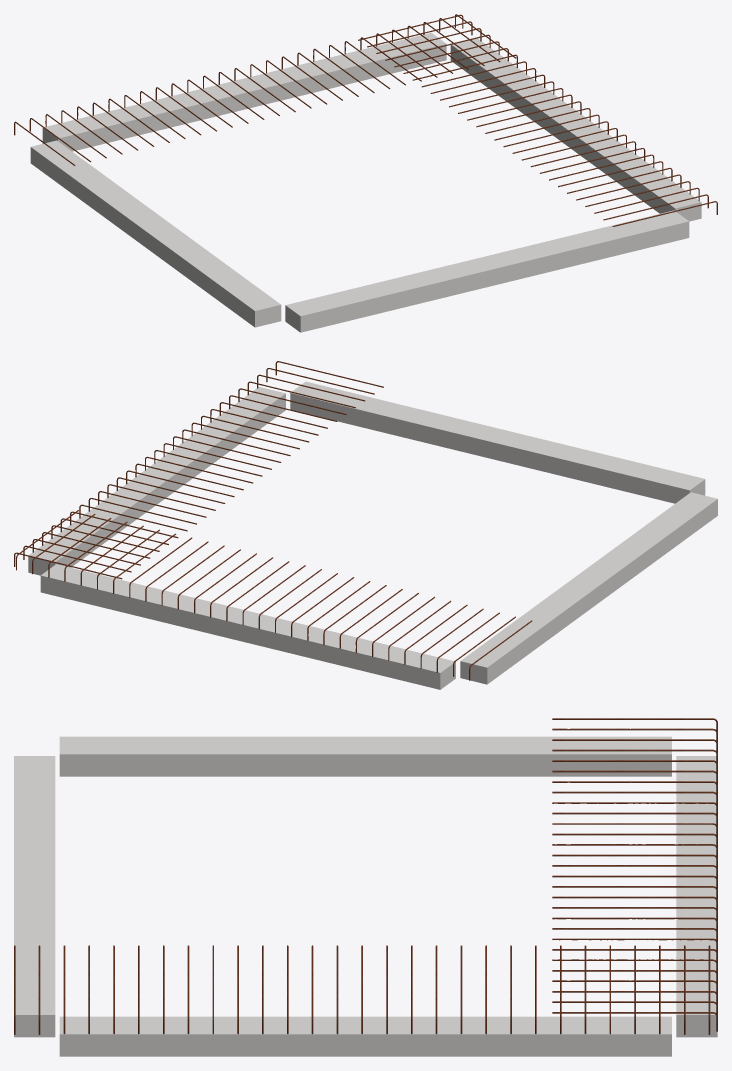
3 renders of one model, top to bottom at view 1: azimuth 30°, elevation 25°; view 2: azimuth 150°, elevation 25°; view 3: azimuth 270°, elevation 25°, orthographic. The views are drawn at different scales.
Parts seen in each view (by area): view 1: Concrete - Rectangular Beam 250 x 300mm [381115]001, Concrete - Rectangular Beam 250 x 300mm [381193]001, Concrete - Rectangular Beam 250 x 300mm [381064]001, Concrete - Rectangular Beam 250 x 300mm [381152]001, Rebar Bar H10 [397804]_[319274]001, Rebar Bar H10 [397803]_[319274]001; view 2: Concrete - Rectangular Beam 250 x 300mm [381193]001, Concrete - Rectangular Beam 250 x 300mm [381115]001, Concrete - Rectangular Beam 250 x 300mm [381064]001, Concrete - Rectangular Beam 250 x 300mm [381152]001, Rebar Bar H10 [397804]_[319274]001, Rebar Bar H10 [397803]_[319274]001; view 3: Concrete - Rectangular Beam 250 x 300mm [381152]001, Concrete - Rectangular Beam 250 x 300mm [381064]001, Rebar Bar H10 [397803]_[319274]001, Concrete - Rectangular Beam 250 x 300mm [381115]001, Concrete - Rectangular Beam 250 x 300mm [381193]001, Rebar Bar H10 [397804]_[319274]001.
Boxes of the visible parts, x1,y1,x2,y2 form: Concrete - Rectangular Beam 250 x 300mm [381115]001: (285,210,689,332); Concrete - Rectangular Beam 250 x 300mm [381193]001: (42,32,446,151); Concrete - Rectangular Beam 250 x 300mm [381064]001: (30,140,281,327); Concrete - Rectangular Beam 250 x 300mm [381152]001: (450,38,701,221); Rebar Bar H10 [397804]_[319274]001: (358,14,717,226); Rebar Bar H10 [397803]_[319274]001: (14,14,515,165); Concrete - Rectangular Beam 250 x 300mm [381193]001: (40,564,455,689); Concrete - Rectangular Beam 250 x 300mm [381115]001: (290,381,705,503); Concrete - Rectangular Beam 250 x 300mm [381064]001: (460,492,717,684); Concrete - Rectangular Beam 250 x 300mm [381152]001: (28,387,285,575); Rebar Bar H10 [397804]_[319274]001: (14,361,383,579); Rebar Bar H10 [397803]_[319274]001: (16,510,532,680); Concrete - Rectangular Beam 250 x 300mm [381152]001: (59,1016,671,1056); Concrete - Rectangular Beam 250 x 300mm [381064]001: (59,736,671,776); Rebar Bar H10 [397803]_[319274]001: (552,718,717,1031); Concrete - Rectangular Beam 250 x 300mm [381115]001: (14,756,55,1037); Concrete - Rectangular Beam 250 x 300mm [381193]001: (676,756,717,1037); Rebar Bar H10 [397804]_[319274]001: (14,945,710,1034).
Size of the model in its own units: 4.25 by 0.275 by 4.25.
Materials: 2 (1 with a texture image).
